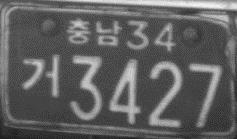2: (147, 59, 183, 127)
3: (69, 54, 103, 120), (126, 19, 150, 50)
4: (108, 58, 141, 124), (154, 22, 176, 53)
7: (187, 62, 223, 127)
거: (19, 53, 61, 97)
충남_O: (65, 17, 122, 46)
